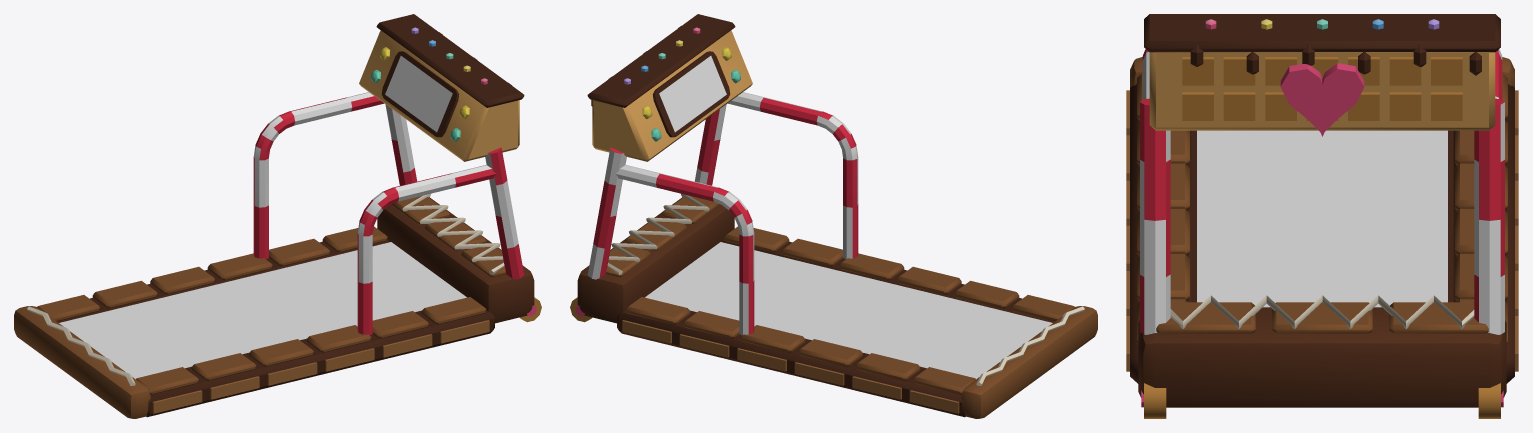
Rendered from treadmill_t1.glb.
3 views of the same model, side by side, from view 1: azimuth 30°, elevation 25°; view 2: azimuth 150°, elevation 25°; view 3: azimuth 270°, elevation 25° (orthographic). The views are drawn at different scales.
Parts seen in each view (by area): view 1: Body, Belt, Screen, Lights; view 2: Body, Belt, Screen, Lights; view 3: Body, Belt, Lights.
Boxes of the visible parts, x1,y1,x2,y2 form: Body: (14,14,541,418); Belt: (59,242,466,379); Screen: (385,56,452,132); Lights: (371,27,487,141); Body: (570,14,1097,418); Belt: (645,242,1052,379); Screen: (659,56,726,132); Lights: (624,27,740,141); Body: (1126,14,1518,418); Belt: (1197,130,1447,307); Lights: (1205,19,1439,29).
Bounding box in the file's own units: 2.78 × 1.5 × 1.41.
